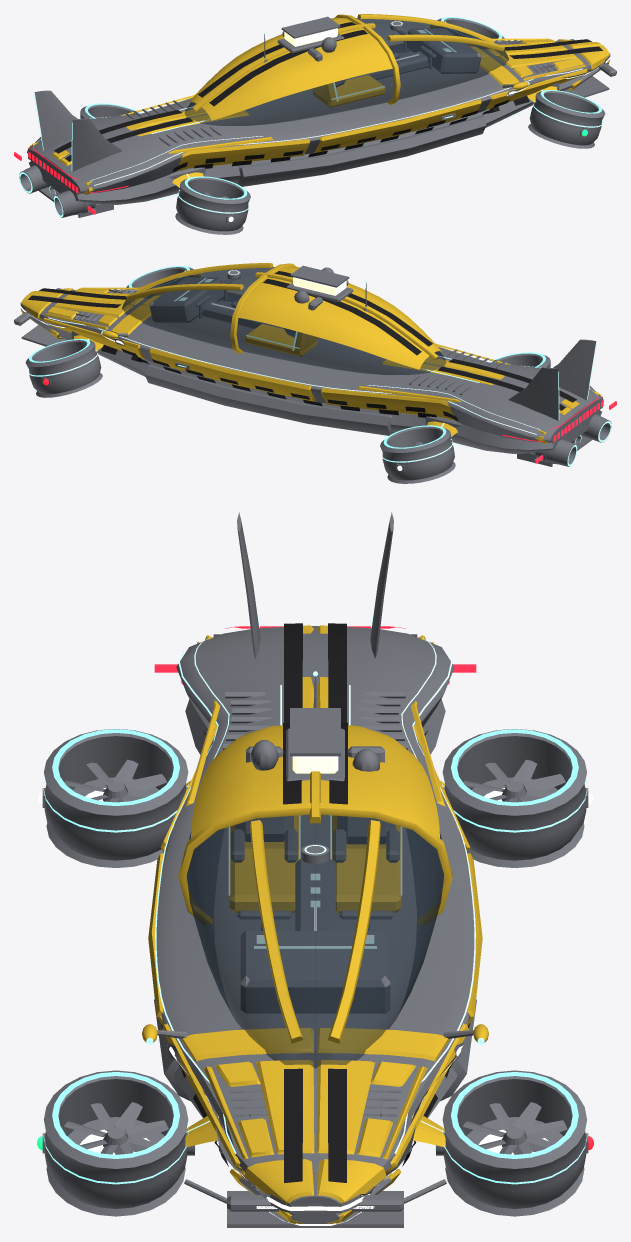
Rendered from hover235b.glb.
3 views of the same model, one above another, from view 1: azimuth 30°, elevation 25°; view 2: azimuth 150°, elevation 25°; view 3: azimuth 270°, elevation 25° (orthographic). The views are drawn at different scales.
Visible parts, largest first — view 1: h235-trim, h235-chassis, h235-body, h235-glass, h235-livery, h235-accent, h235-glow, h235-tail, h235-sign; view 2: h235-trim, h235-chassis, h235-body, h235-glass, h235-livery, h235-accent, h235-glow, h235-tail, h235-sign; view 3: h235-trim, h235-chassis, h235-body, h235-glass, h235-livery, h235-glow, h235-accent, h161-rotor-1, h161-rotor-0, h161-rotor-2, h161-rotor-3, h235-head.
Part boxes in pixels (x1,y1,x2,y2): h235-trim: (19, 16, 616, 234); h235-chassis: (27, 41, 599, 204); h235-body: (29, 14, 609, 194); h235-glass: (184, 18, 508, 125); h235-livery: (54, 22, 602, 172); h235-accent: (19, 21, 603, 217); h235-glow: (85, 17, 601, 200); h235-tail: (14, 146, 128, 214); h235-sign: (284, 28, 337, 46); h235-trim: (14, 265, 611, 483); h235-chassis: (31, 290, 603, 453); h235-body: (21, 263, 601, 443); h235-glass: (122, 267, 446, 374); h235-livery: (28, 271, 576, 421); h235-accent: (27, 270, 611, 466); h235-glow: (29, 266, 545, 449); h235-tail: (502, 395, 616, 463); h235-sign: (293, 277, 346, 295); h235-trim: (42, 512, 588, 1227); h235-chassis: (156, 626, 474, 1223); h235-body: (142, 625, 488, 1226); h235-glass: (187, 814, 443, 1068); h235-livery: (160, 623, 470, 1182); h235-glow: (52, 729, 578, 1158); h235-accent: (43, 605, 587, 1184); h161-rotor-1: (64, 1102, 168, 1154); h161-rotor-0: (463, 1102, 567, 1154); h161-rotor-2: (463, 759, 565, 802); h161-rotor-3: (64, 759, 166, 802); h235-head: (38, 792, 592, 1225).
Bounding box in the file's own units: 4.86 × 1.14 × 2.08.
